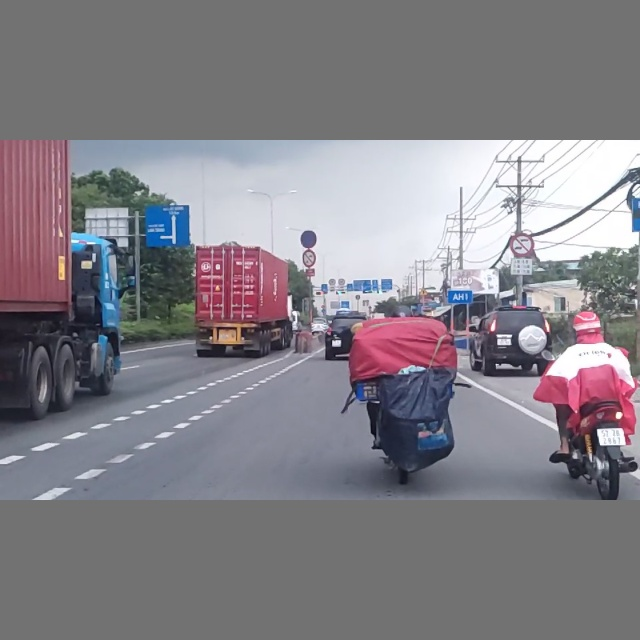P.107: (510, 233, 534, 257)
P.111: (303, 249, 316, 267)
P.130: (300, 229, 318, 247)
